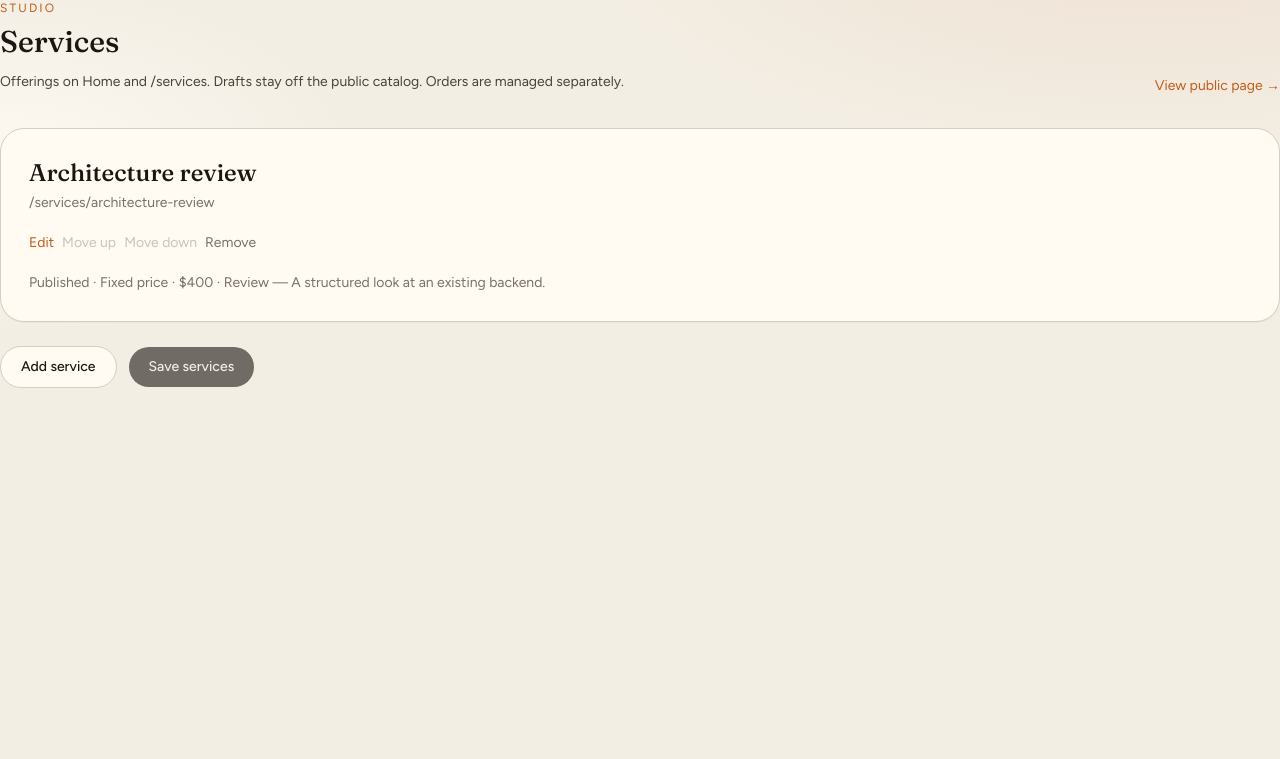
it: AdminServicesPage › expands a service card to edit
Step 1. Click the button "Edit" → (42, 243), box top-left (29, 233), bottom-right (54, 253)
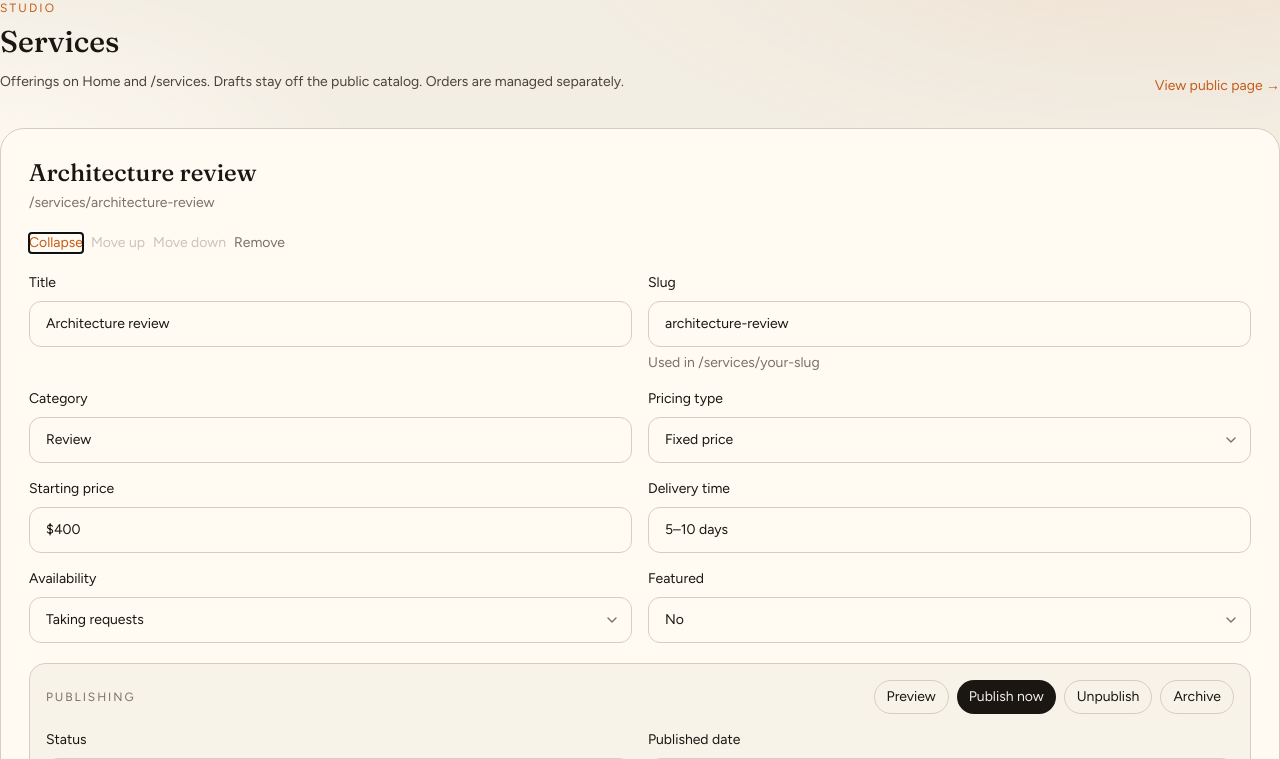
Expected: the field labelled "Title" holds "Architecture review", top-left (29, 301), bottom-right (632, 347)
Expected: the button "Collapse" is shown
Step 2. Click the button "Collapse" → (56, 243), box top-left (29, 233), bottom-right (83, 253)
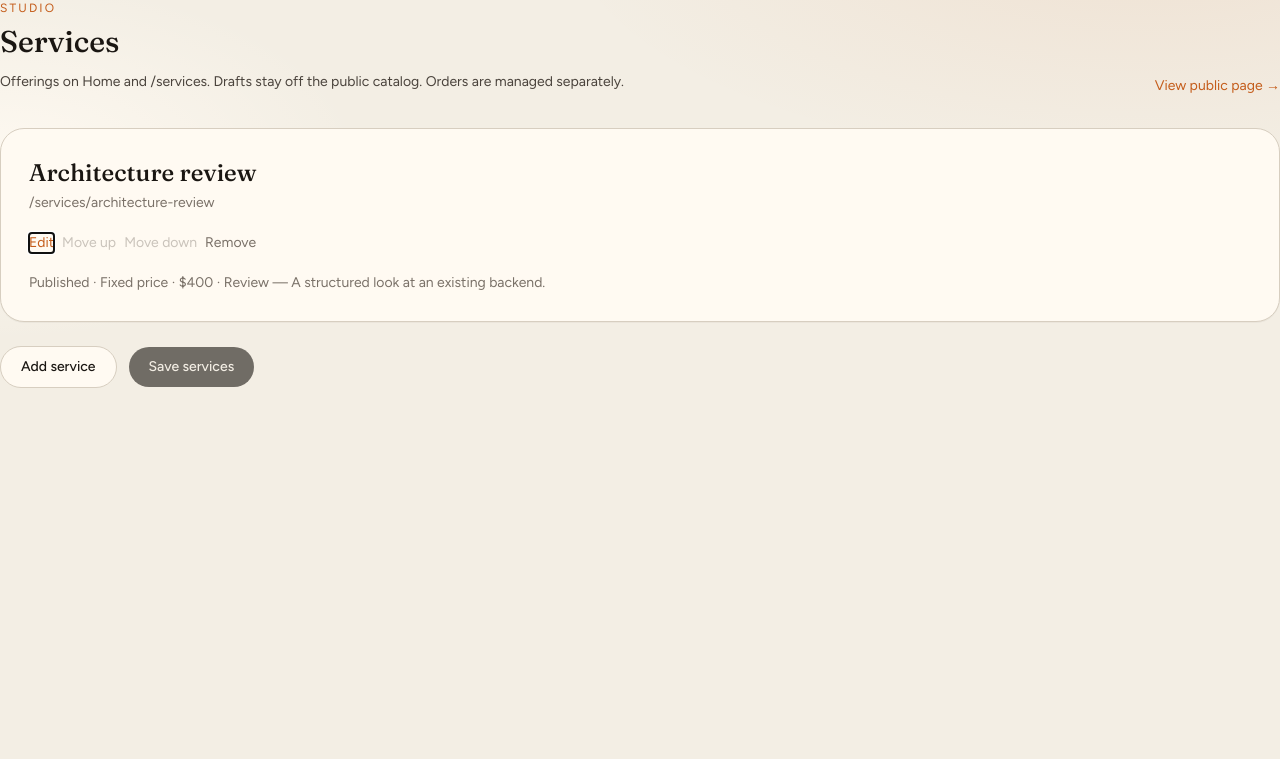
Expected: the label labelled "Title" is gone
